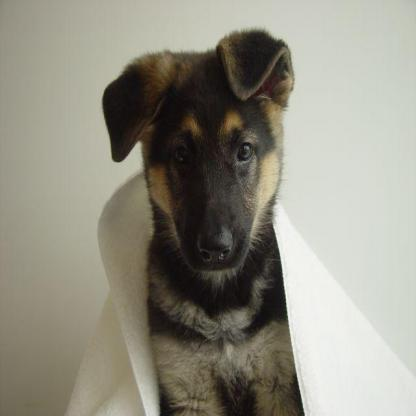German_shepherd: (101, 27, 305, 413)
